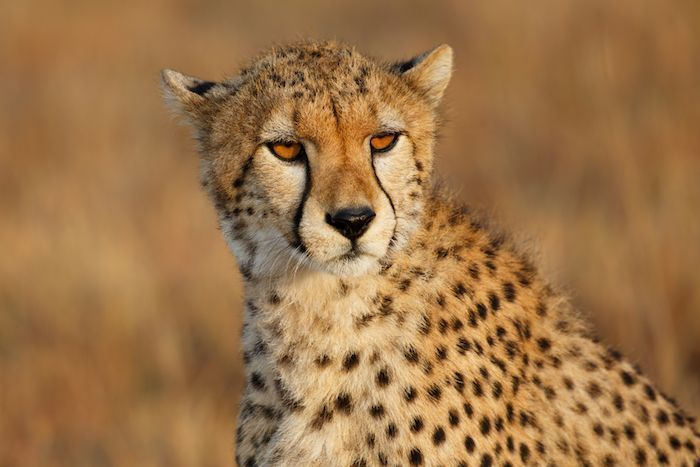cheetah: (125, 23, 475, 289)
